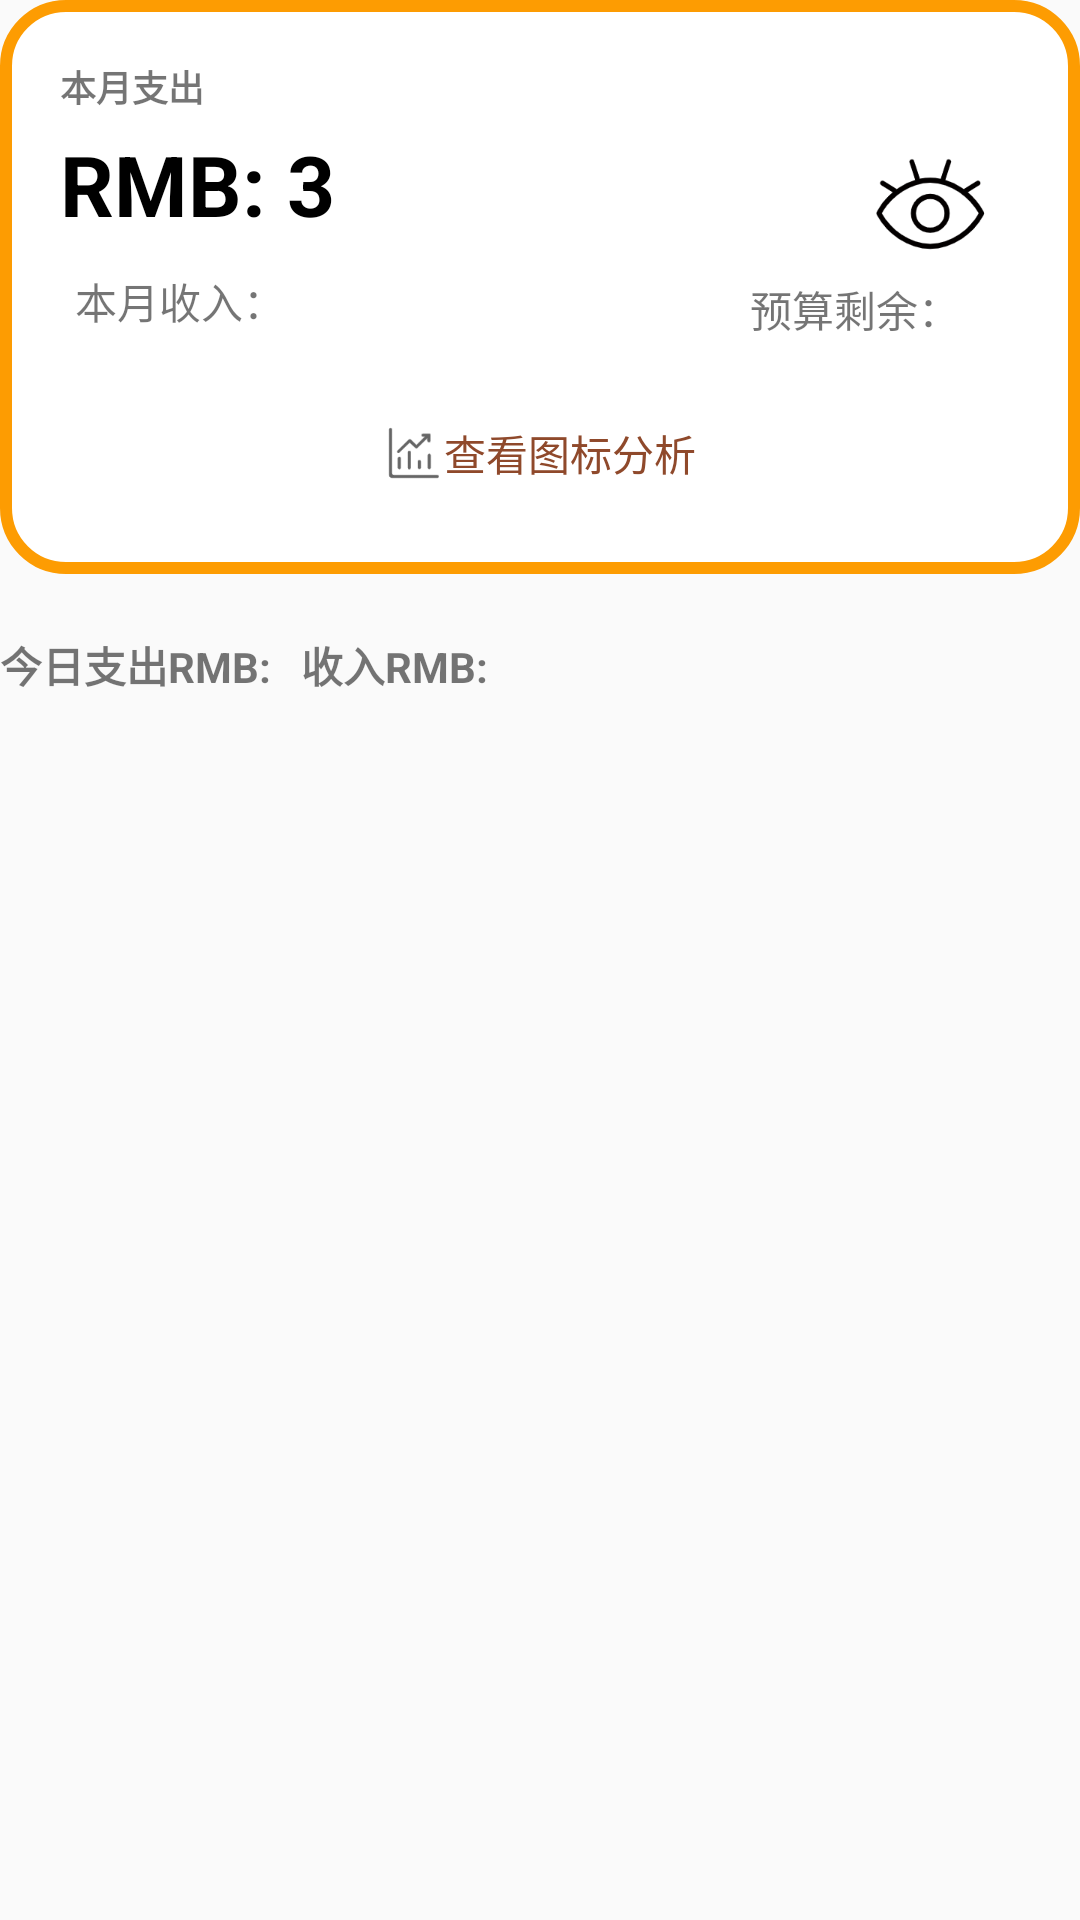

Icon bounding boxes for this 1080 × 1920 phone screenshot, format rect(x1, y1, x2, y2):
xianshi: rect(876, 159, 985, 250)
